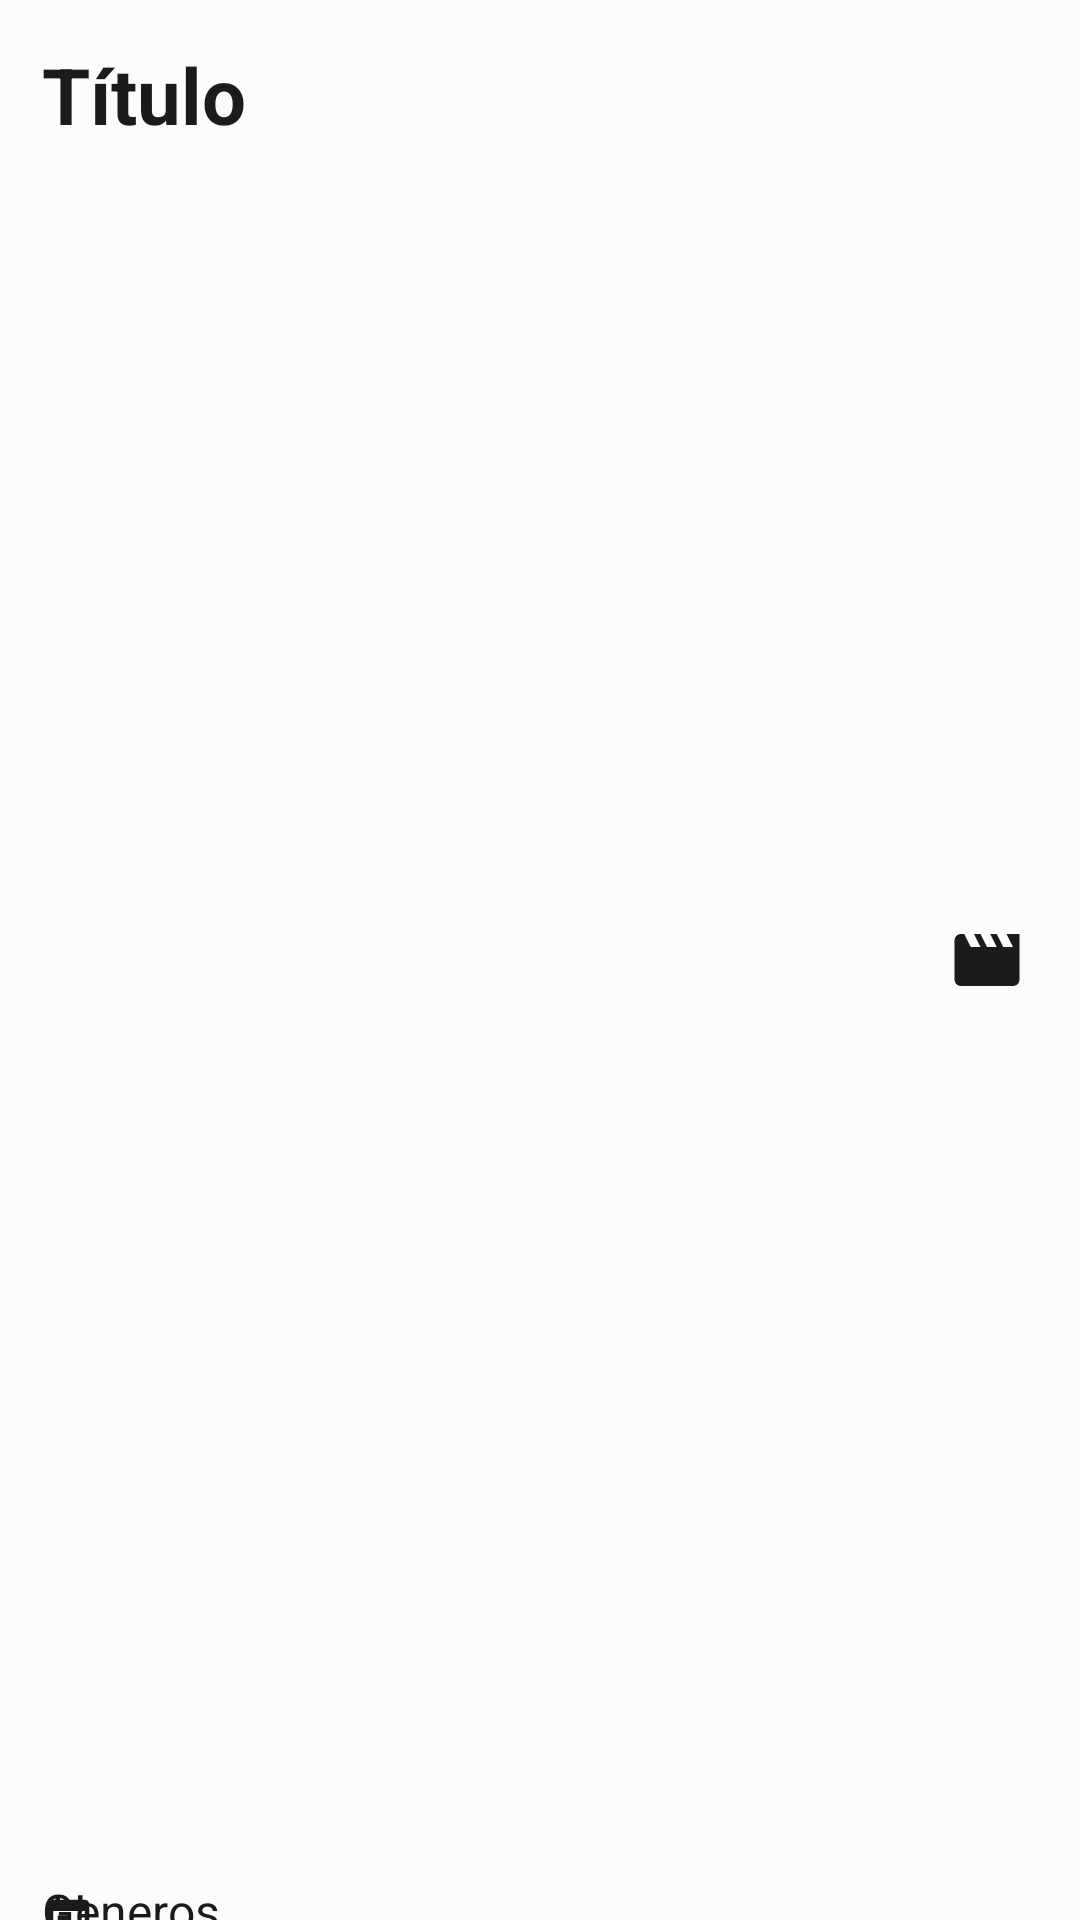

Named icons in this screenshot (1080 × 1920) and their bounding boxes, (x1, y1, x2, y2):
movie: (954, 934, 1020, 986)
